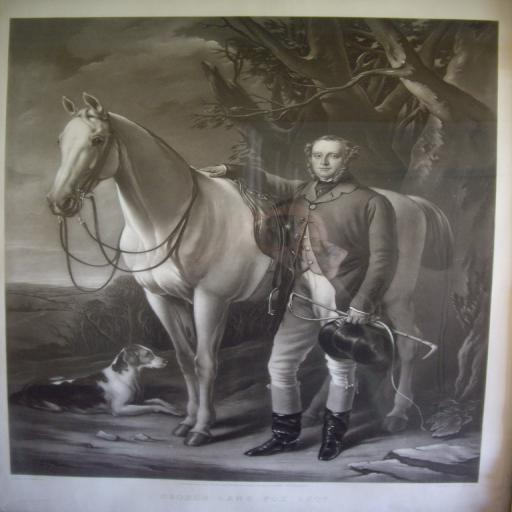horse: (46, 92, 454, 446)
